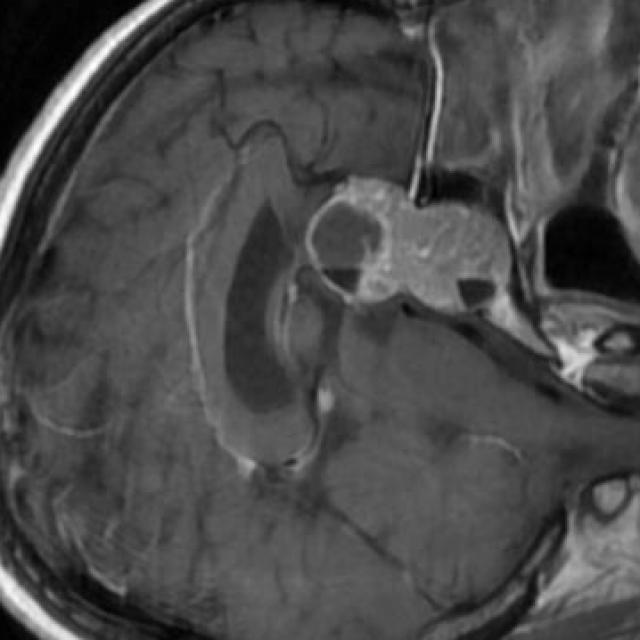pituitary: (305, 176, 512, 314)
